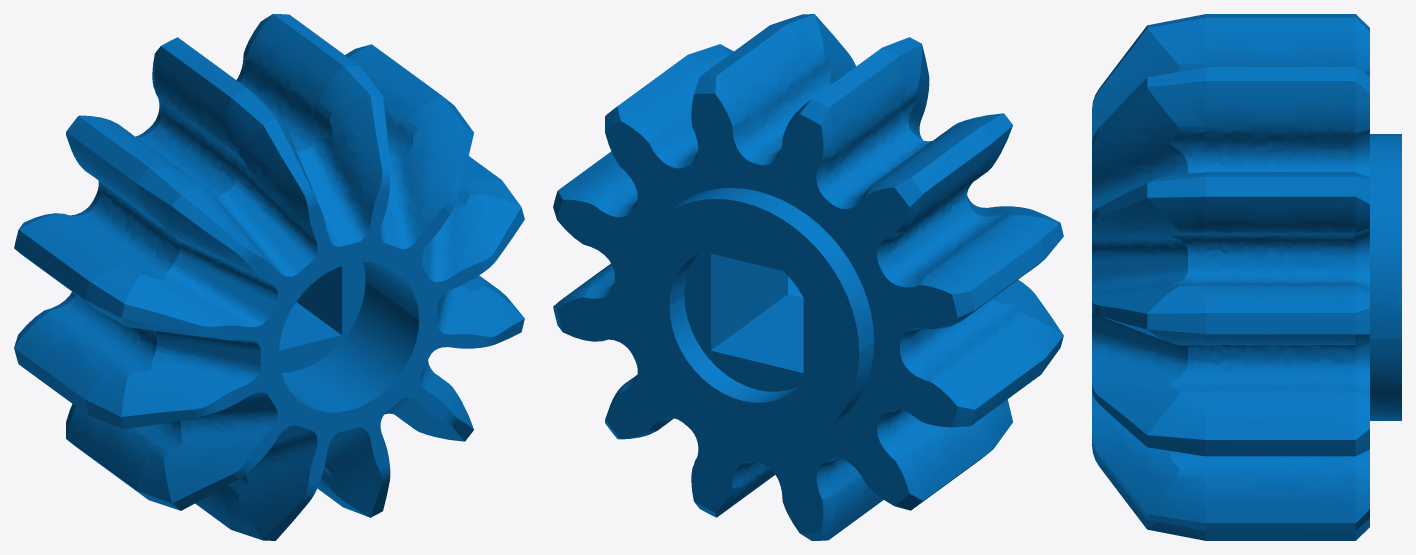
The model's file is 12 Tooth Hybrid Gear (228-2500-250).glb.
3 views of the same model, side by side, from view 1: azimuth 30°, elevation 25°; view 2: azimuth 150°, elevation 25°; view 3: azimuth 270°, elevation 25° (orthographic). The views are drawn at different scales.
Parts seen in each view (by area): view 1: 12 Tooth Hybrid Gear (228-2500-250); view 2: 12 Tooth Hybrid Gear (228-2500-250); view 3: 12 Tooth Hybrid Gear (228-2500-250).
Part boxes in pixels (x1,y1,x2,y2): 12 Tooth Hybrid Gear (228-2500-250): [14, 14, 524, 540]; 12 Tooth Hybrid Gear (228-2500-250): [553, 14, 1063, 540]; 12 Tooth Hybrid Gear (228-2500-250): [1092, 14, 1401, 540].
Bounding box in the file's own units: 0.5691 × 0.5691 × 0.34.
